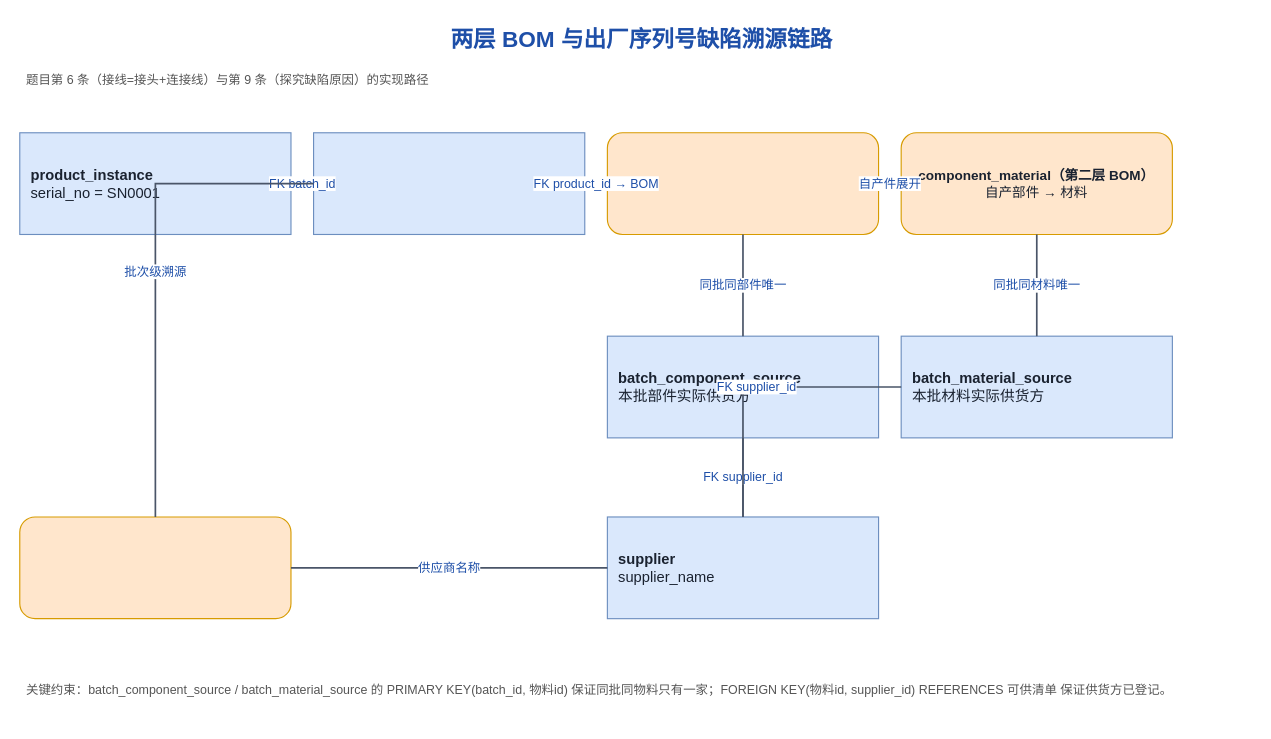
This 1271x739 diagram has some shape labels left out. Each missing label, with the centre of its shape:
"batch batch_id → 批次 1" goes at pixel 448 183.
"product_component（第一层 BOM） 产品 → 部件" goes at pixel 742 183.
"缺陷定位结论 SN0001 与 SN0003 同型号不同批次，供应商发生变化 → 定位到批次供货源" goes at pixel 155 567.
